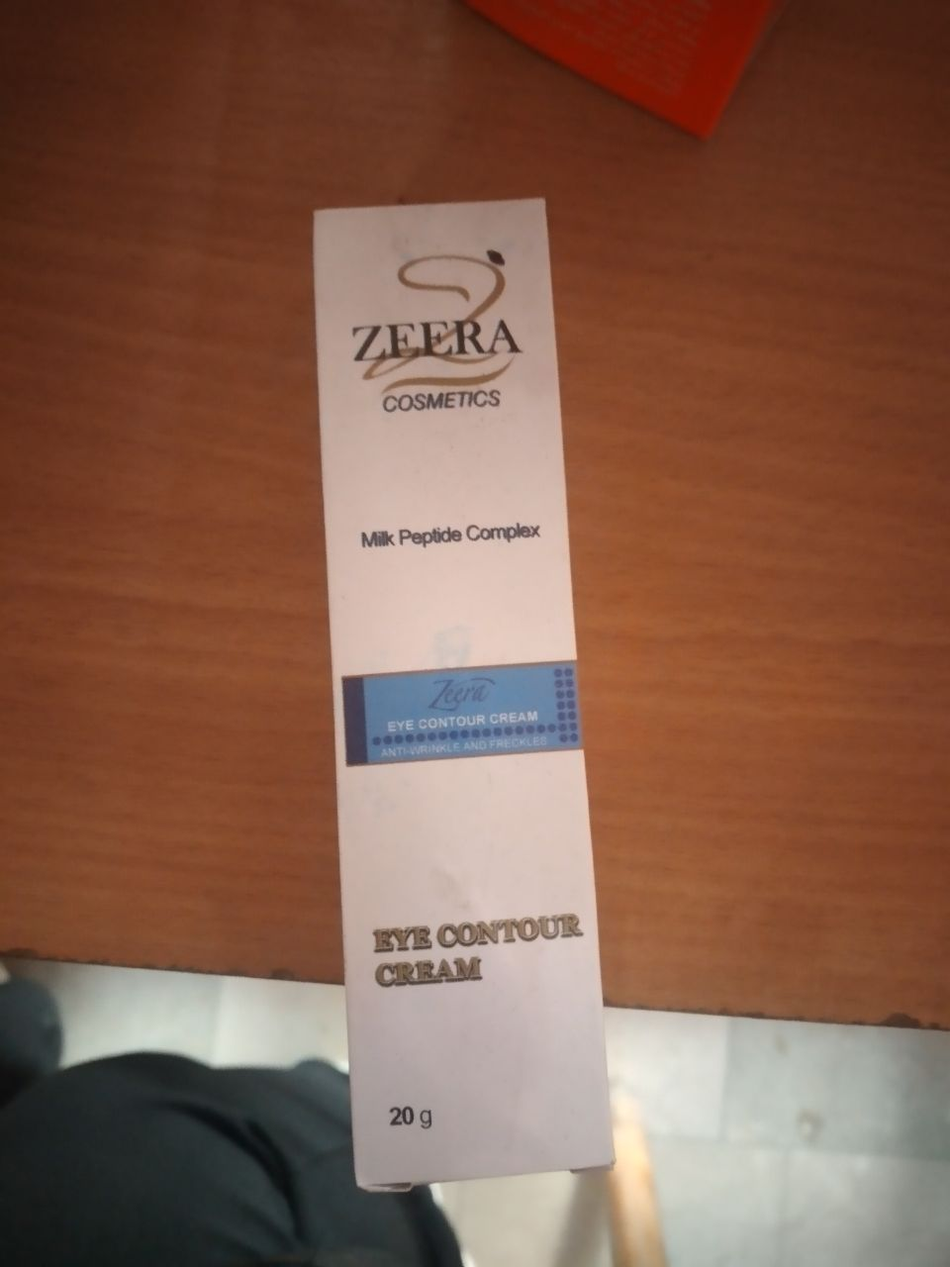Medicine: (290, 185, 620, 1201)
